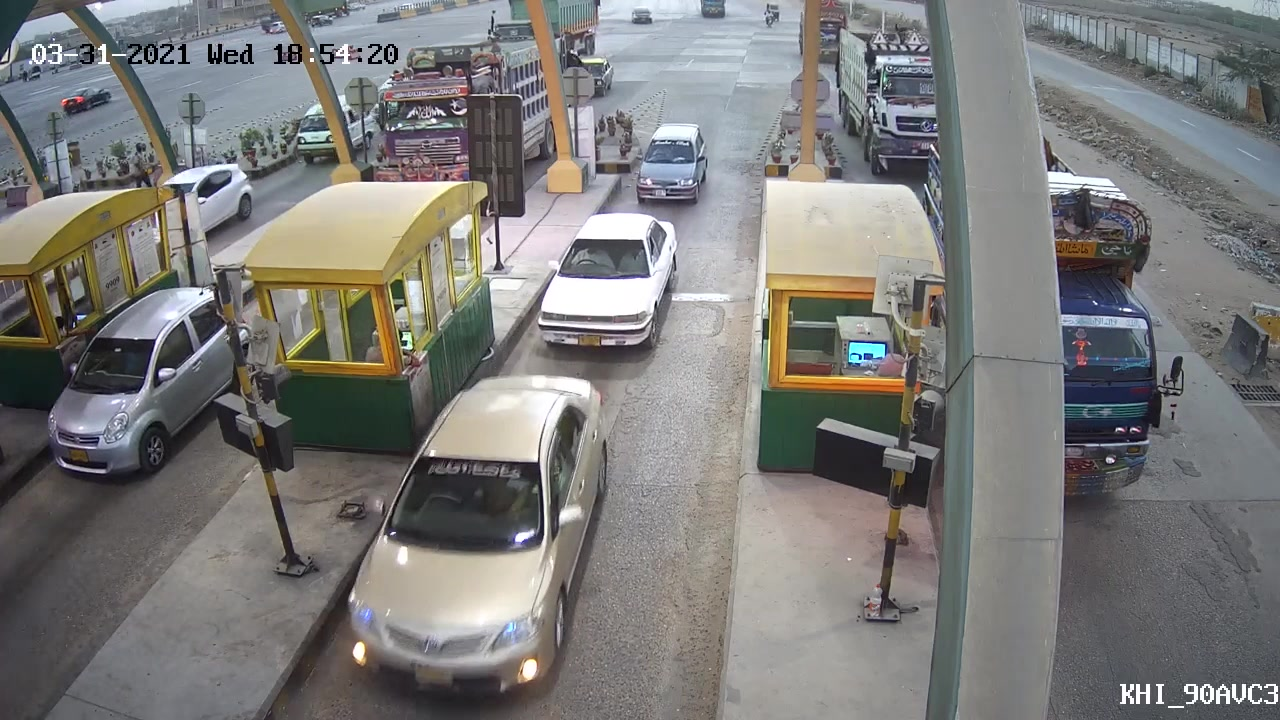F1: (336, 373, 611, 694), (535, 211, 683, 352), (632, 119, 713, 205)
